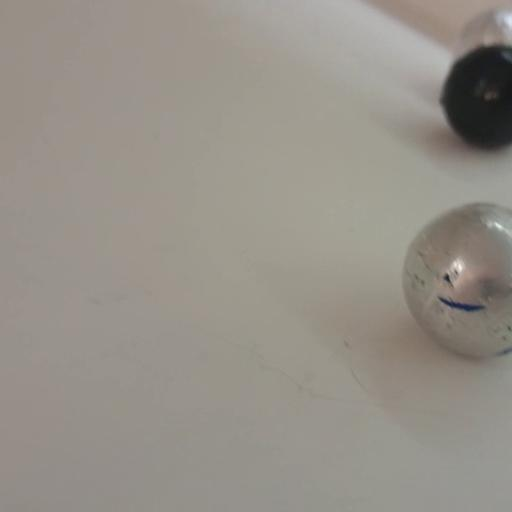alive: (401, 202, 511, 360), (458, 8, 510, 54)
dead: (439, 44, 512, 149)
